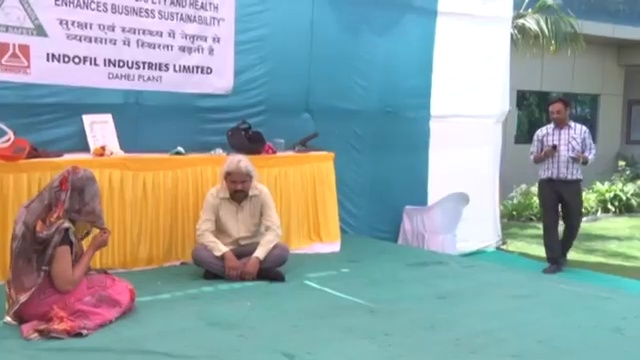helmet_off: (51, 166, 101, 221), (221, 153, 256, 204), (546, 99, 573, 129)
person: (1, 165, 134, 342), (190, 152, 290, 283), (528, 98, 597, 274)
